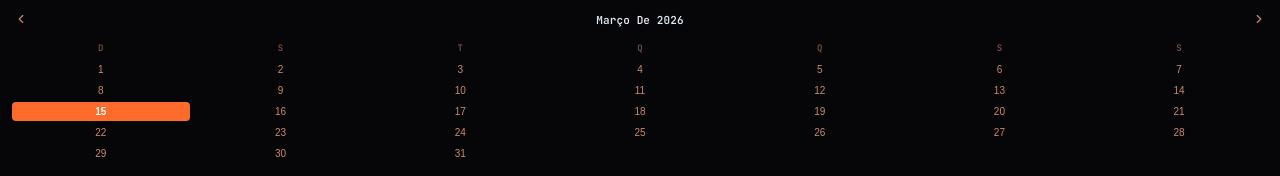
Scenario: MiniCalendar › navigates to next and previous months
# Previous Month
Click the button with test id "cal-prev" at (21, 20), box [12,10,30,31]
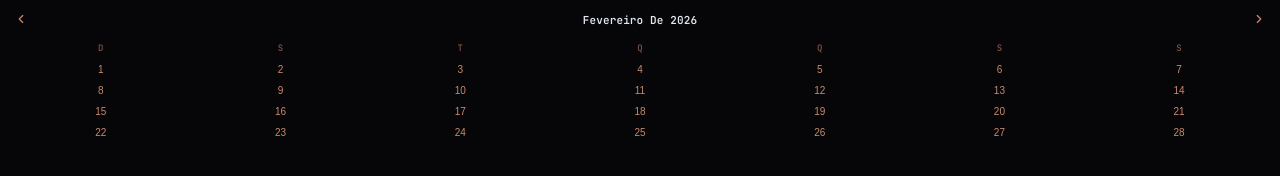
Check: the text "fevereiro de 2026" is shown, box [583,11,697,30]
# Next Month x 2
Click the button with test id "cal-next" at (1259, 20), box [1250,10,1268,31]
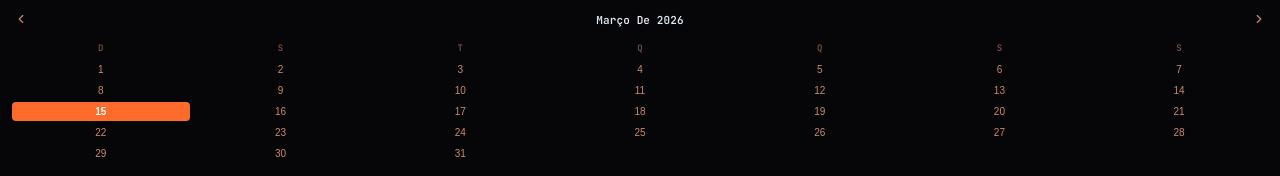
Click the button with test id "cal-next" at (1259, 20), box [1250,10,1268,31]
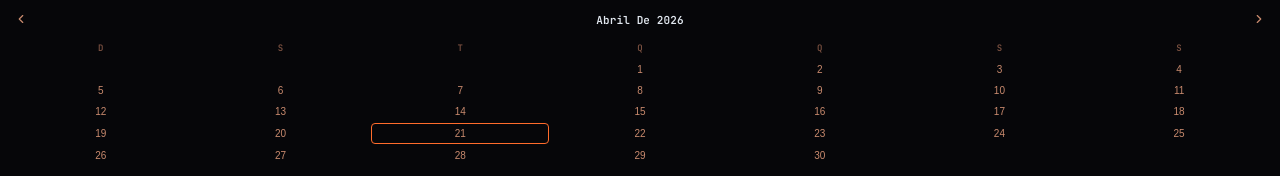
Check: the text "abril de 2026" is shown, box [596,11,684,30]
